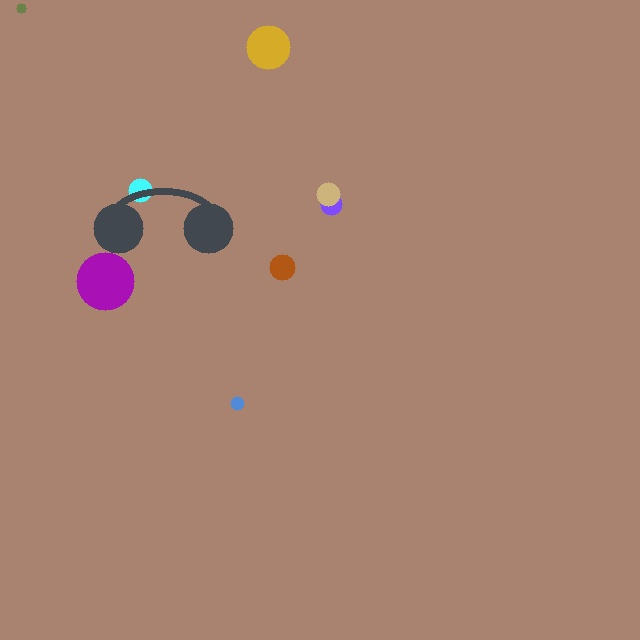over_ear: (89, 173, 237, 257)
